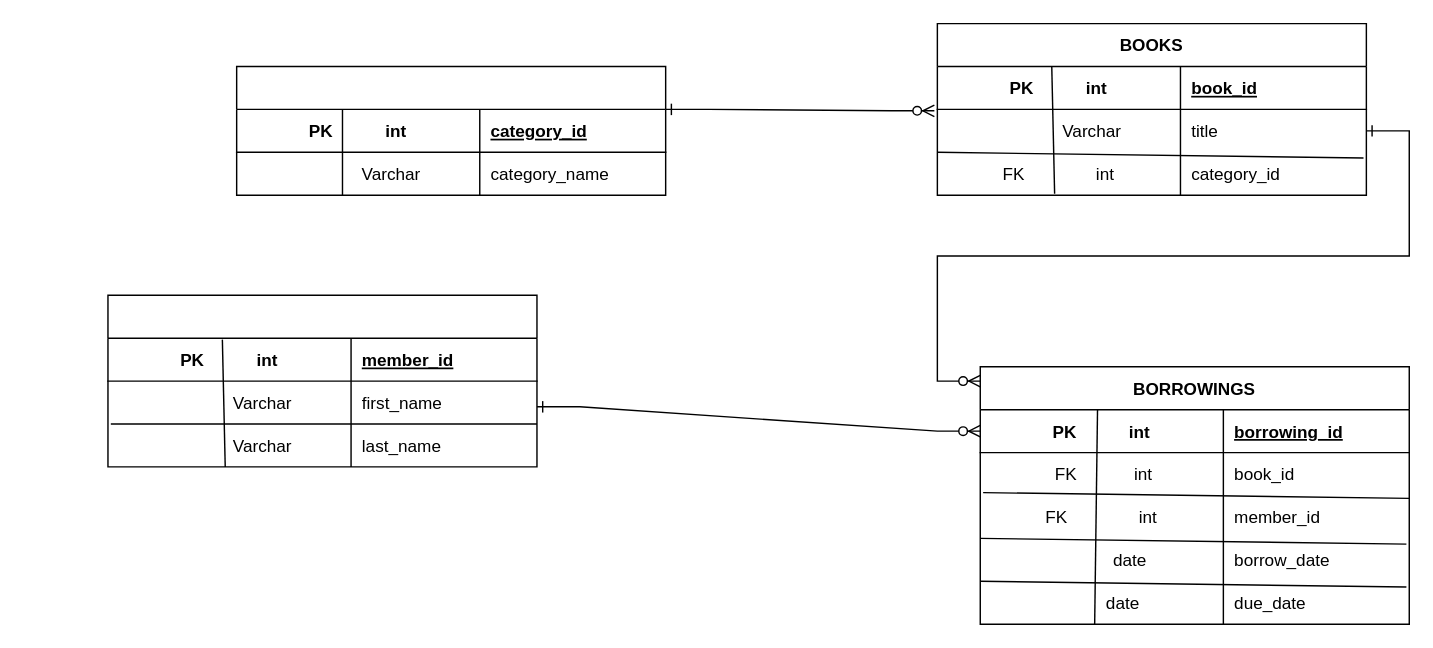
The diagram is 1433 pixels wide and 648 high, and some of its shapes have lost their labels. The box of each missing label's shape, as (x1, y1, x2, y2) in pixels:
CATEGORIES: (235, 65, 666, 195)
MEMBERS: (107, 294, 537, 467)
